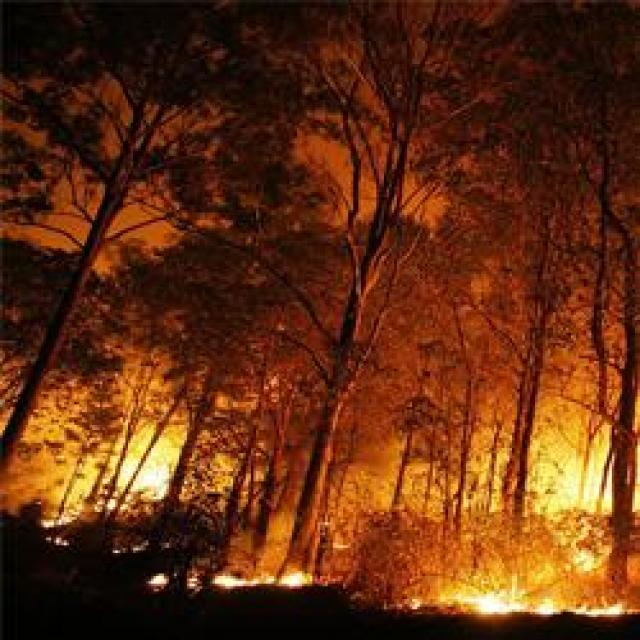fire: (527, 434, 613, 568), (420, 586, 633, 620), (116, 442, 174, 514), (212, 568, 314, 594), (36, 507, 77, 537), (150, 570, 172, 592)
